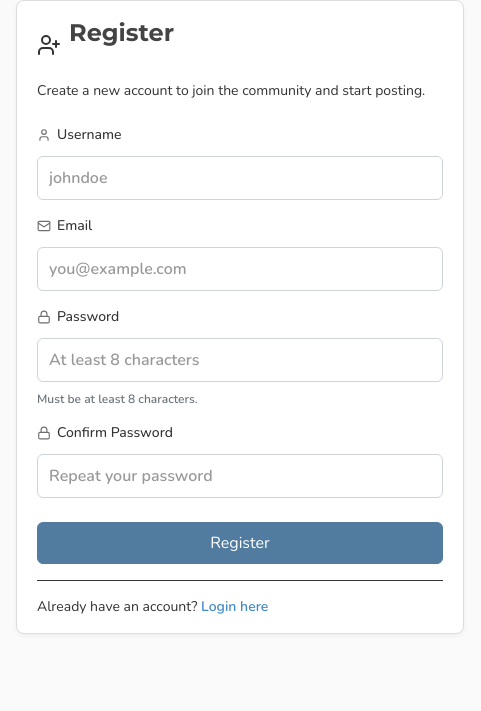
it: app/register/page › surfaces duplicate email validation error from pydantic structured error payload
This screenshot has width=481, height=711.
In the field with placeholder "johndoe": (240, 178) left=37, top=156, right=443, bottom=200, type "validuser"
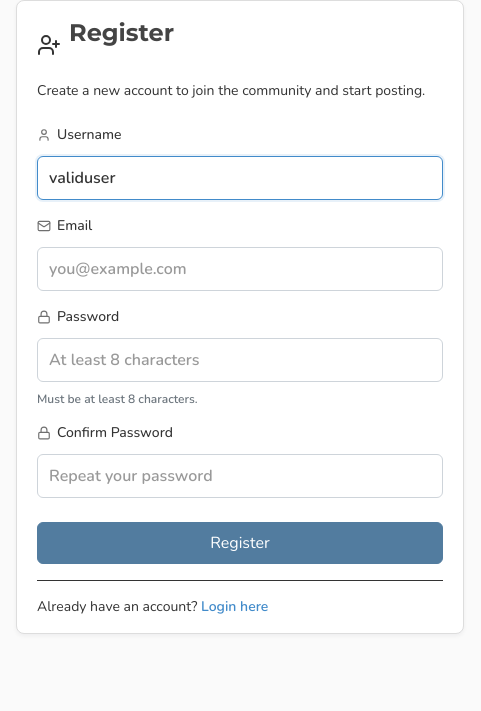
In the field with placeholder "you@example.com": (240, 269) left=37, top=247, right=443, bottom=291, type "taken@example.com"
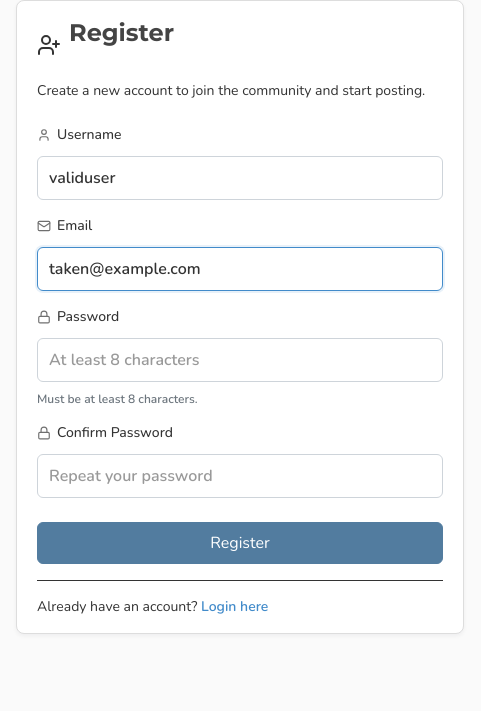
In the password field with placeholder "at least 8 characters": (240, 360) left=37, top=338, right=443, bottom=382, type "password123"
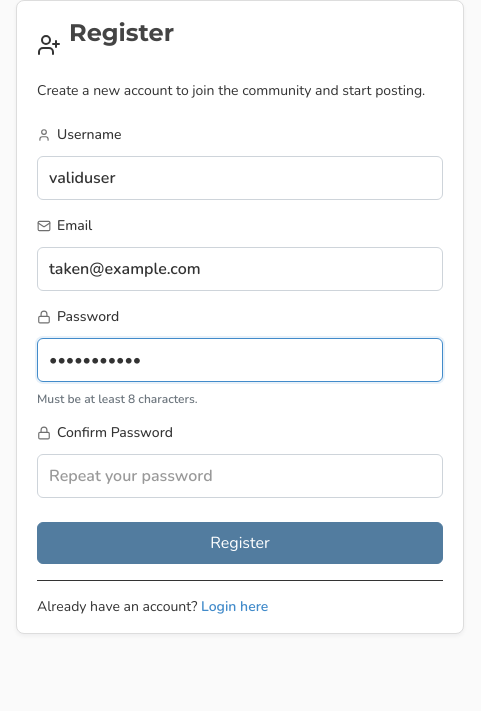
In the password field with placeholder "Repeat your password": (240, 476) left=37, top=454, right=443, bottom=498, type "password123"
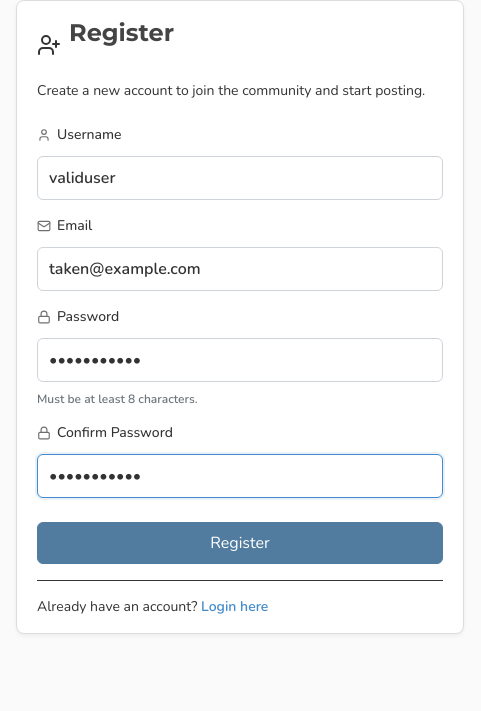
Click the button "Register": (240, 543) left=37, top=522, right=443, bottom=564
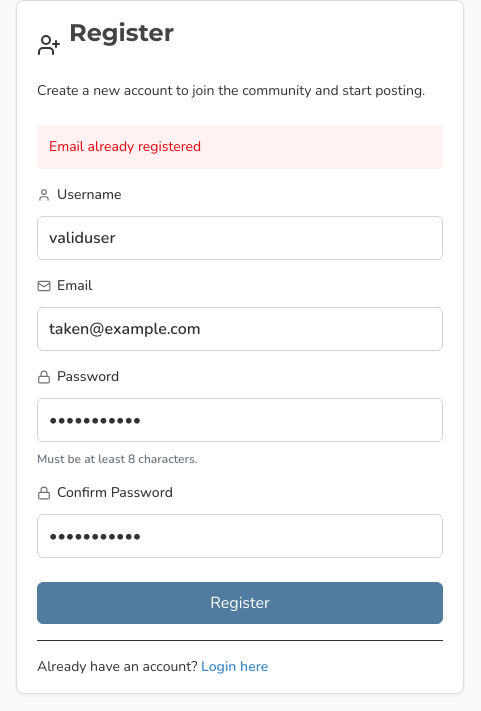
Check: the text "Email already registered" is shown, box left=37, top=125, right=443, bottom=169
